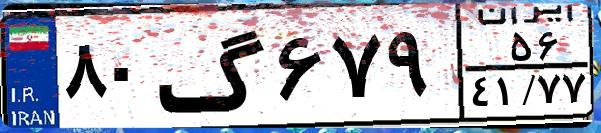0: (110, 28, 156, 98)
1: (495, 70, 520, 125)
4: (470, 70, 495, 125)
5: (508, 27, 537, 80)
6: (270, 28, 330, 110), (537, 27, 568, 80)
7: (330, 28, 385, 110), (560, 70, 590, 125), (535, 70, 560, 125)
8: (57, 26, 110, 100)
9: (385, 28, 445, 110)
گ: (156, 12, 270, 120)
